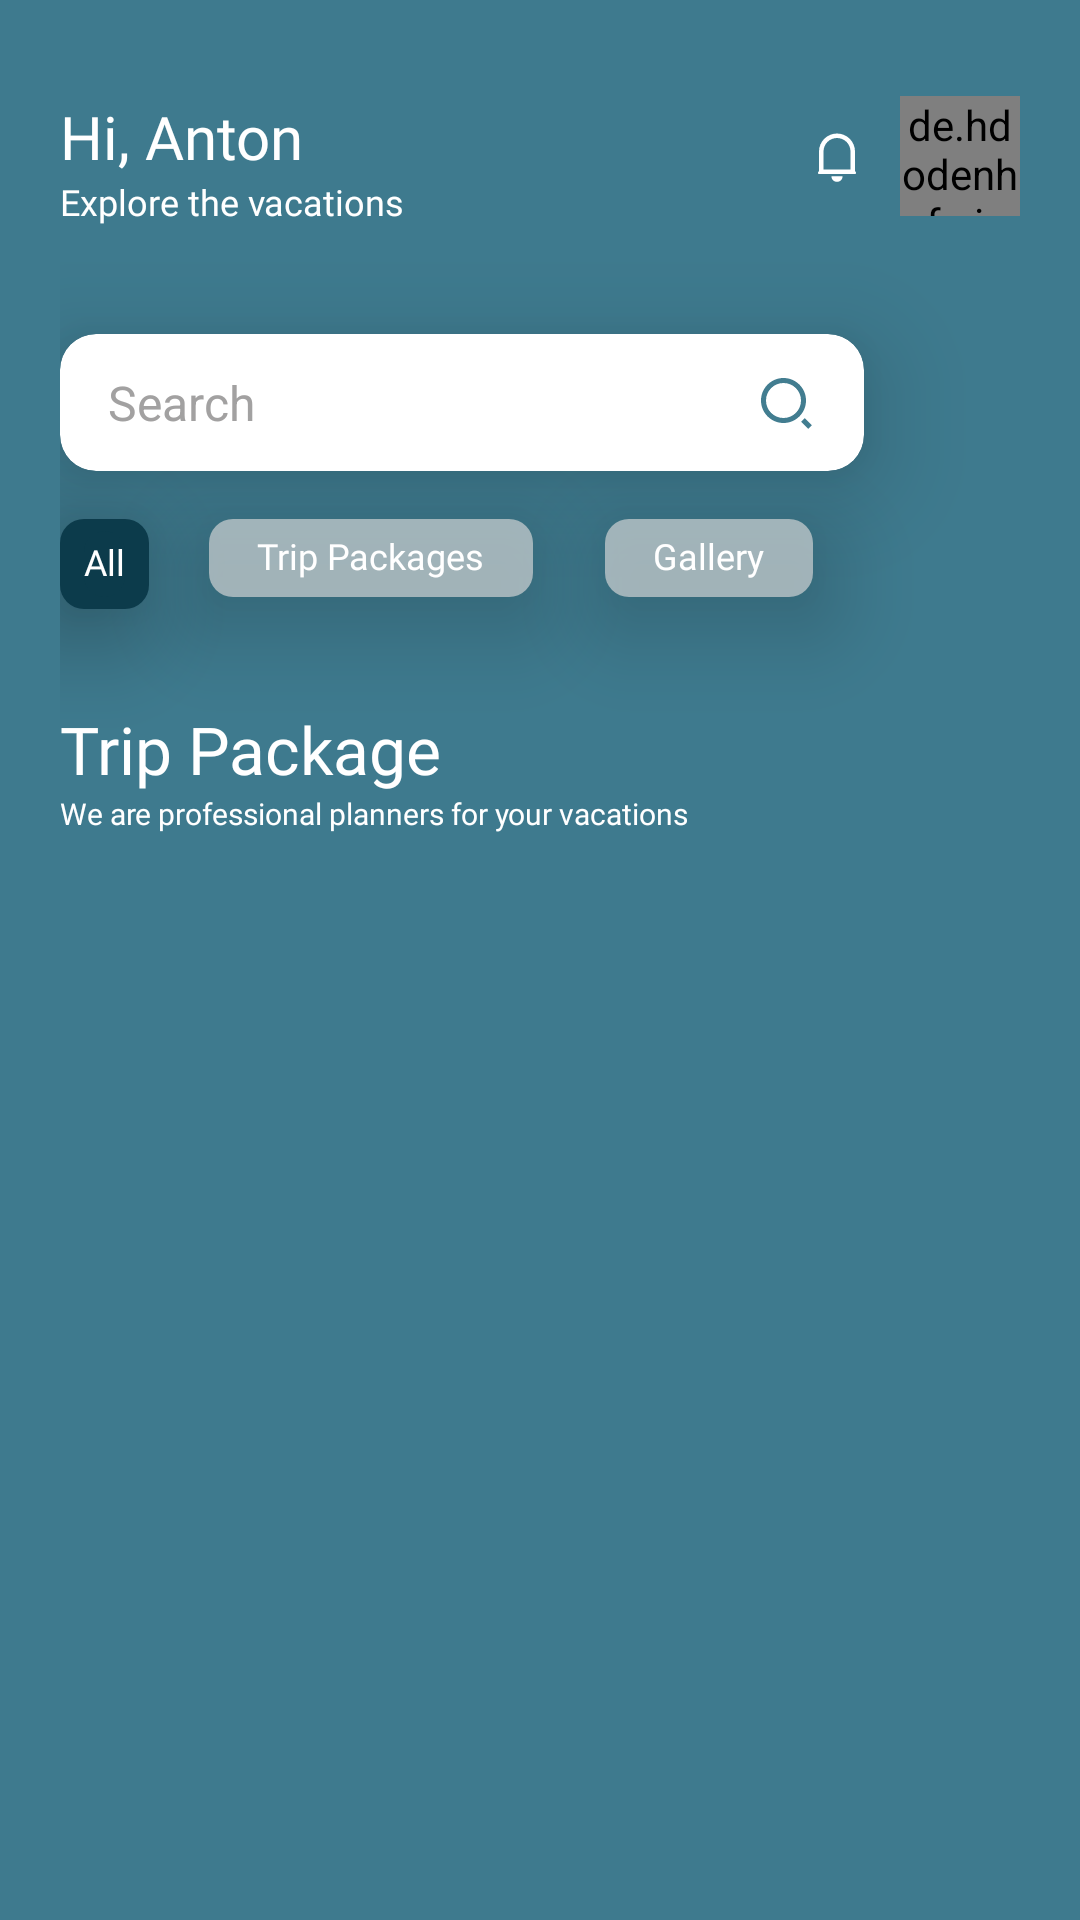

Icons on this 1080*1920 Android screen, each with the point to tap as [x,y]:
notifications: [837,157]
